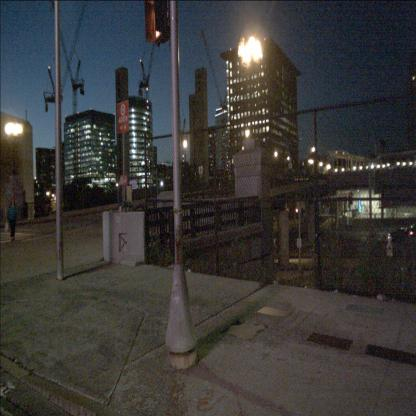human-pedestrian-adult: (5, 196, 19, 243)
